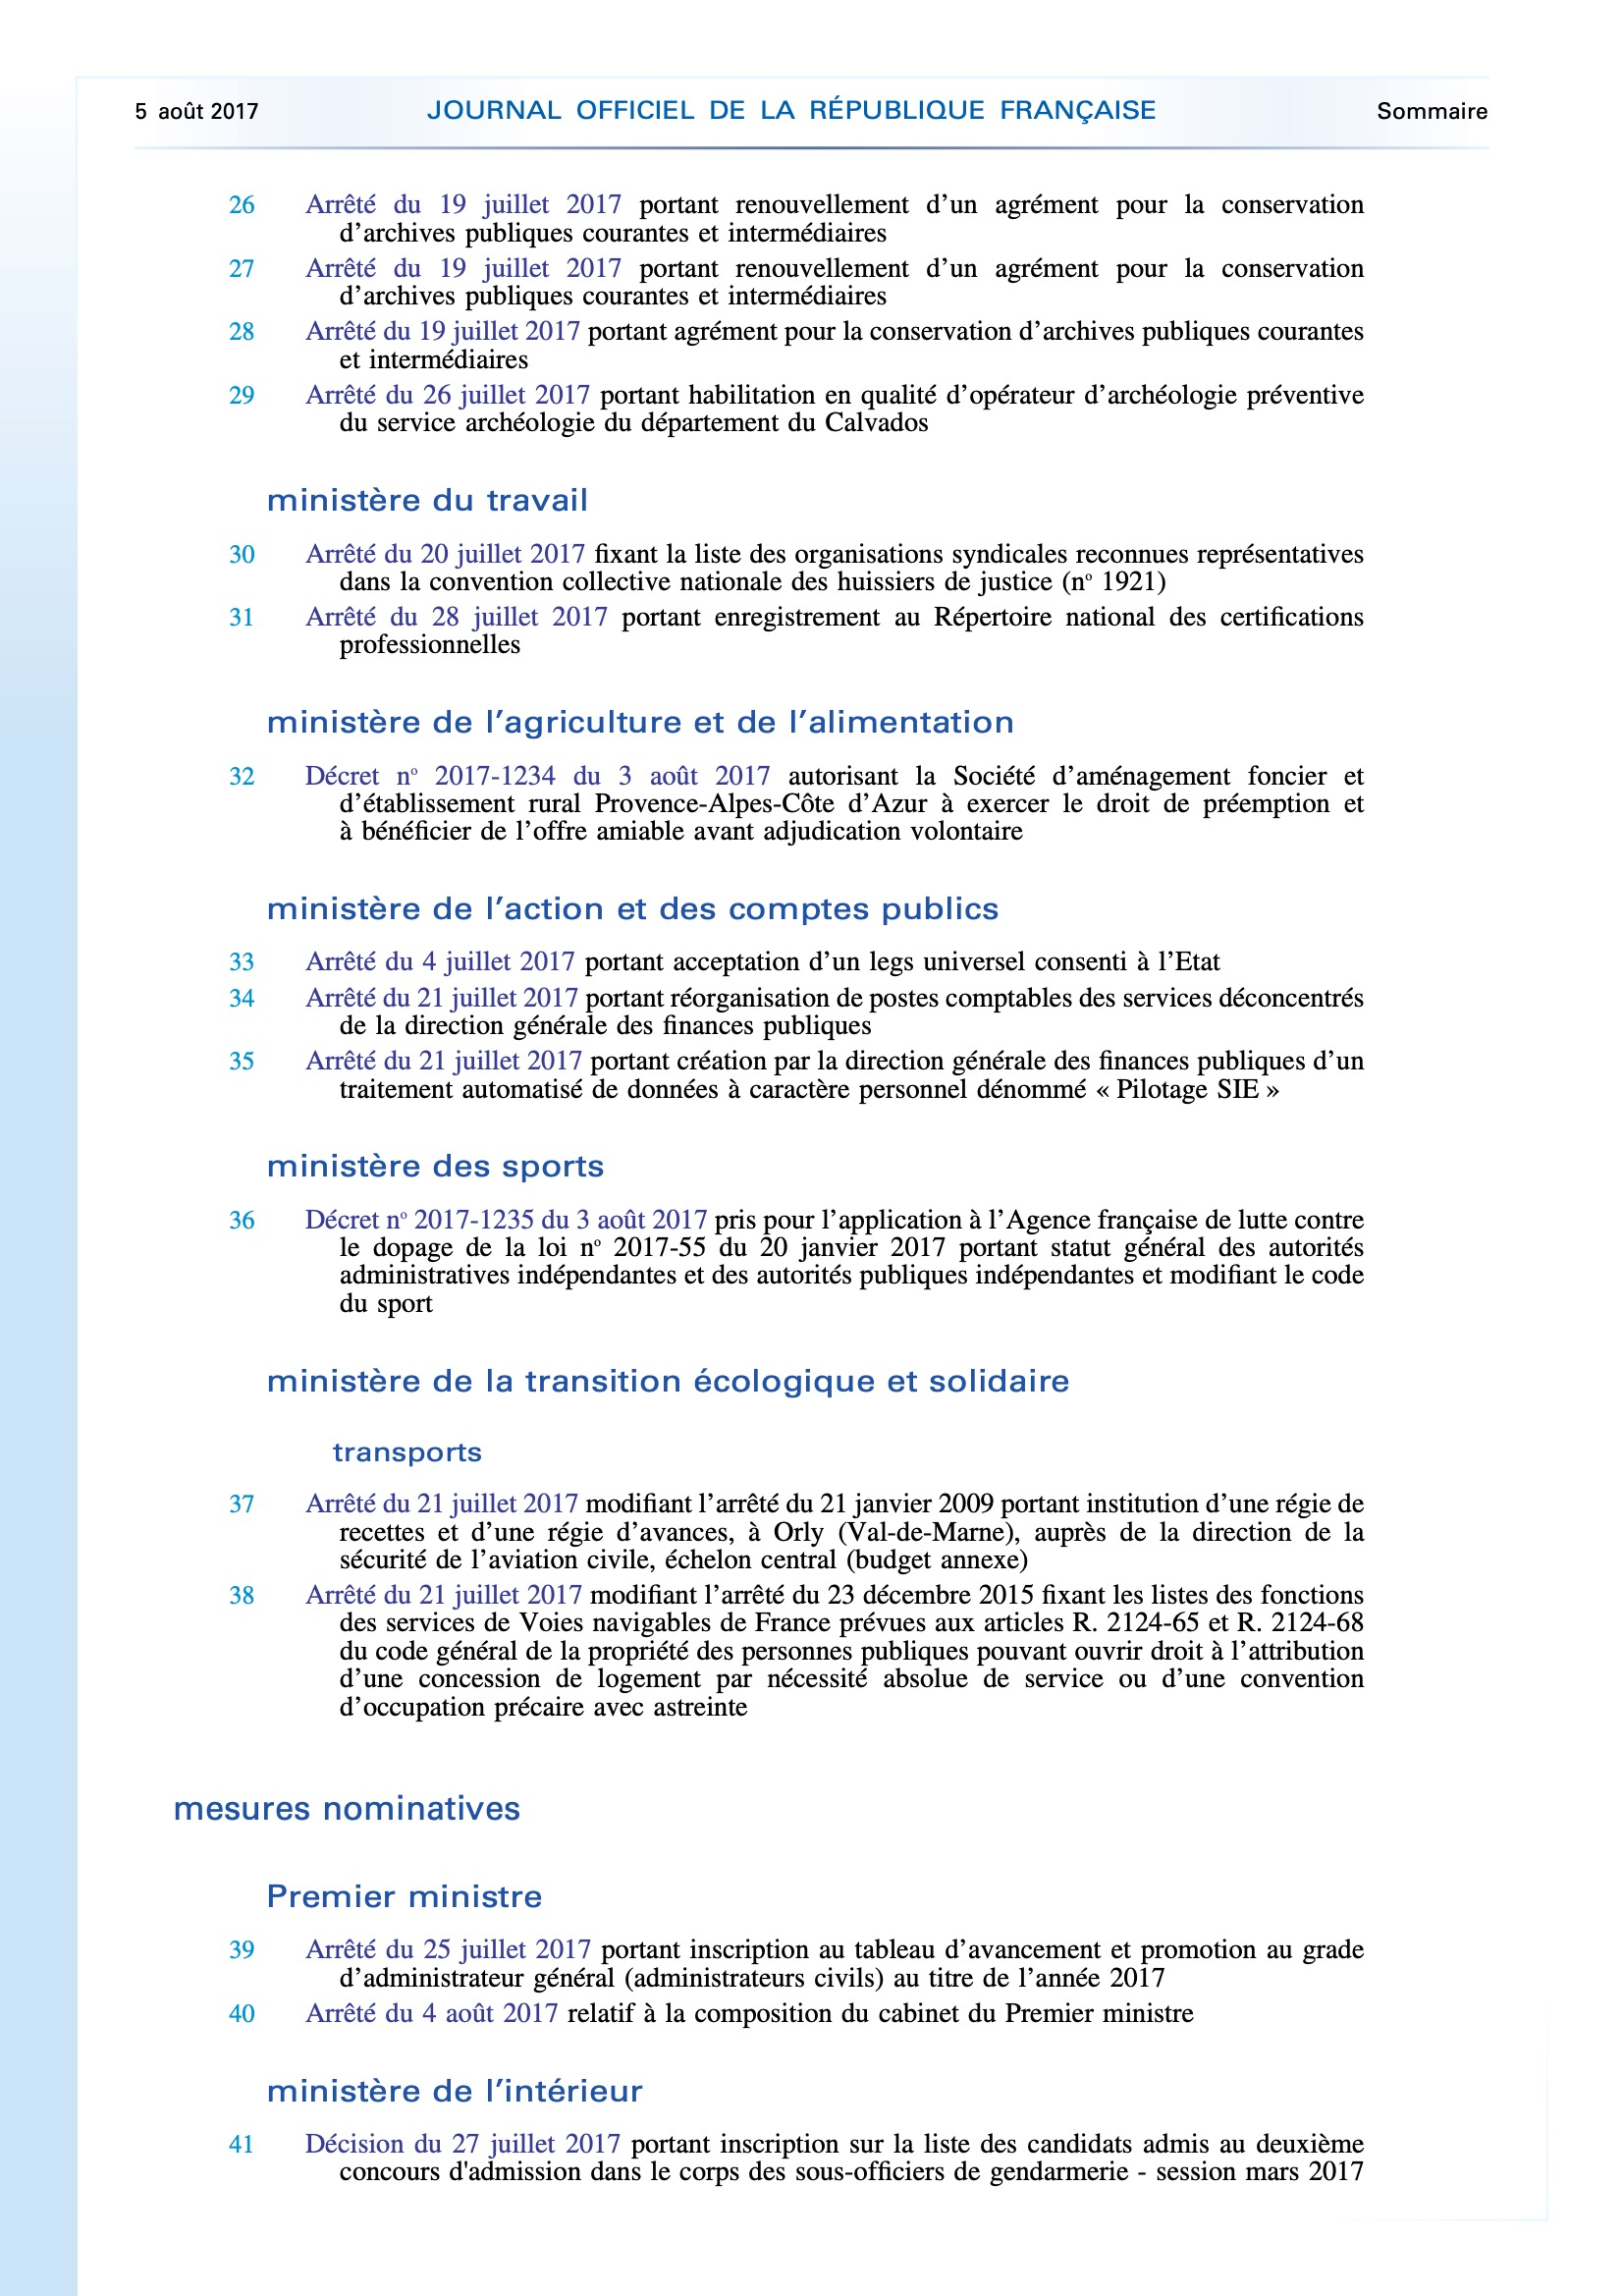MainZone-Date: (121, 89, 267, 133)
MainZone-Head: (247, 886, 1009, 928), (249, 701, 1029, 741), (251, 1360, 1080, 1396), (158, 1781, 533, 1834), (248, 1145, 612, 1187), (242, 2074, 650, 2109), (244, 1872, 557, 1916), (248, 480, 602, 518), (317, 1437, 499, 1468)
MainZone-ListItem: (220, 1577, 1364, 1728), (218, 1199, 1370, 1321), (217, 753, 1374, 846), (216, 1487, 1368, 1574), (217, 2122, 1376, 2191), (217, 185, 1376, 248), (217, 1924, 1372, 1988), (215, 533, 1367, 597), (216, 375, 1370, 437), (221, 604, 1368, 666), (219, 1047, 1373, 1108), (219, 251, 1374, 310), (215, 312, 1371, 370), (223, 981, 1372, 1038), (219, 943, 1232, 977), (217, 1997, 1199, 2032)
NumberingZone: (1367, 93, 1494, 135)
RunningTitleZone: (418, 84, 1165, 132)
